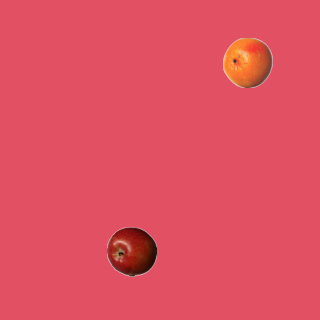Apple Braeburn: (106, 226, 156, 276)
Grapefruit Pink: (222, 37, 272, 87)
